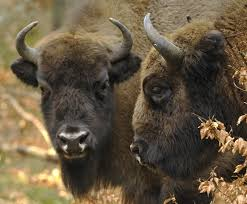zubr: (7, 1, 247, 203), (135, 5, 247, 191)
